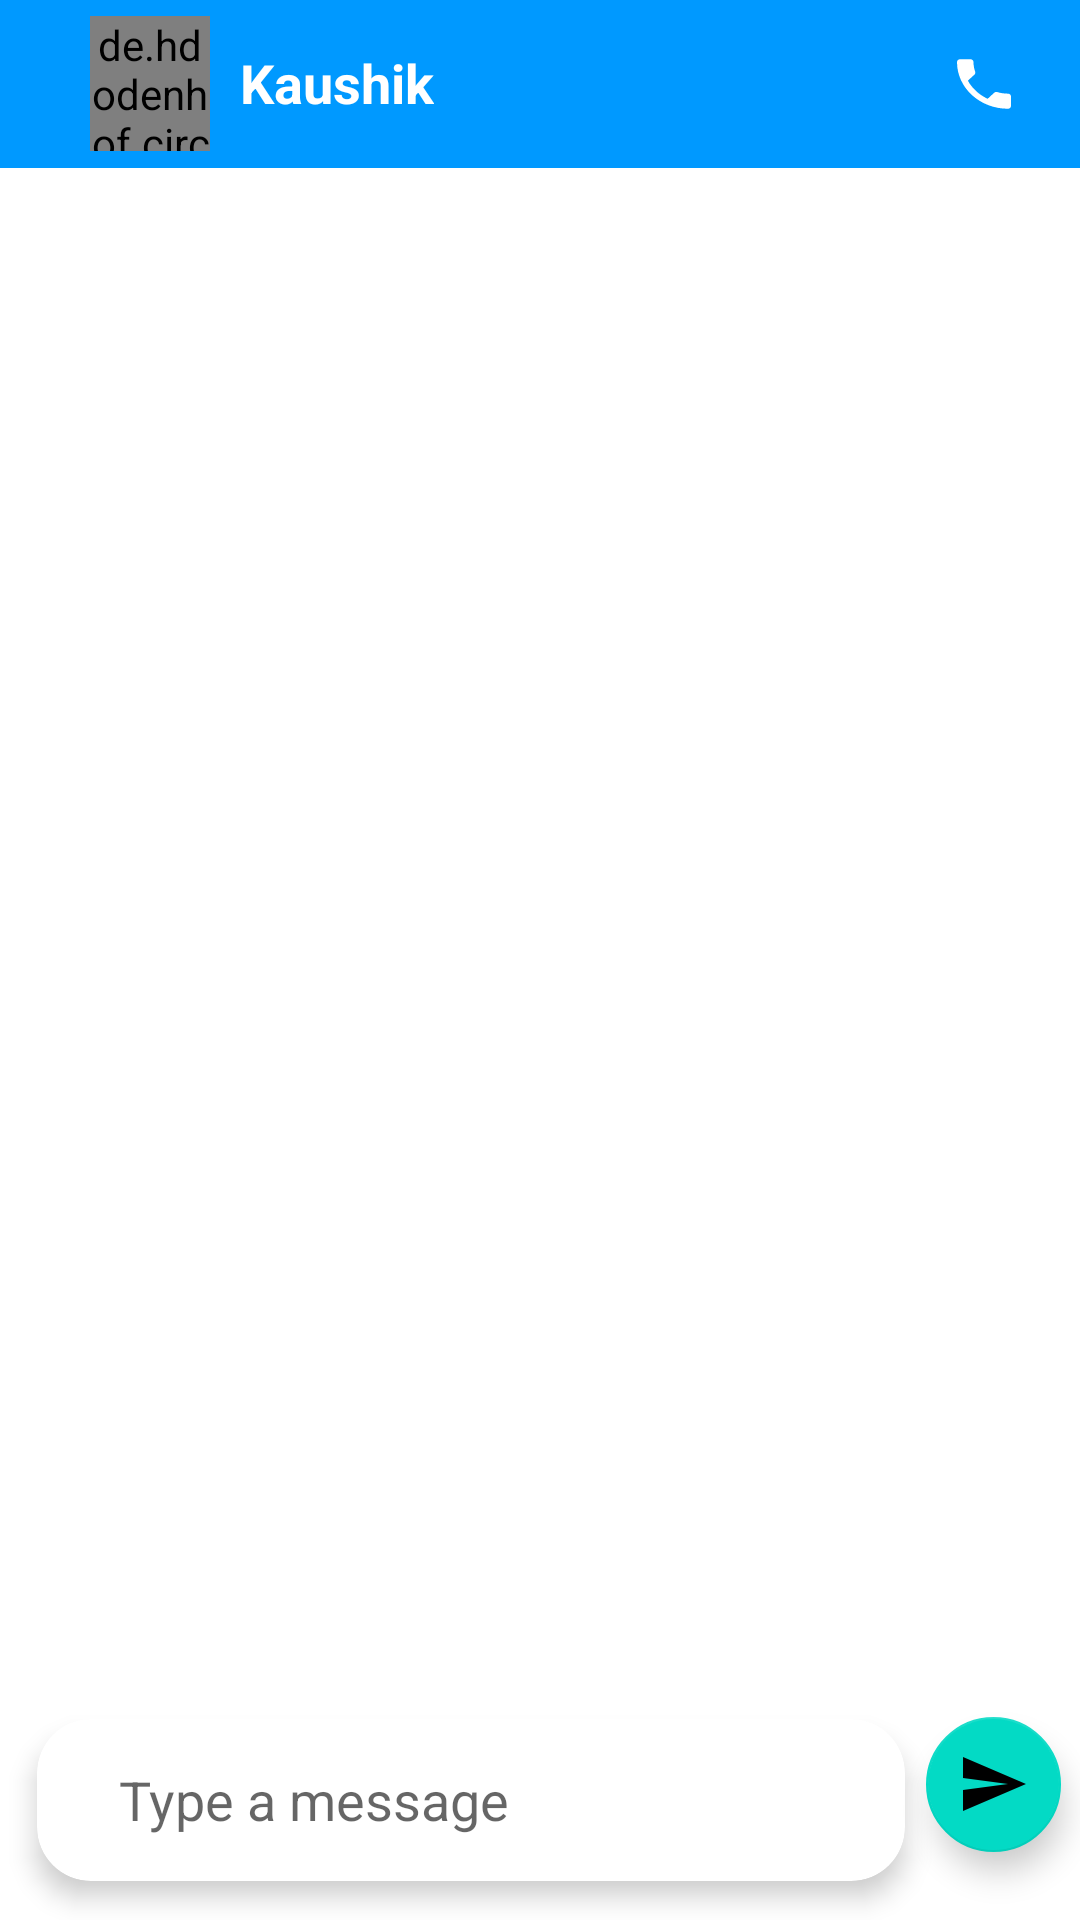

Where to tap for icons on this 1080px x 1920px app screen, as (x=x, y=y):
phonewhite: (x=984, y=84)
send: (x=993, y=1786)
